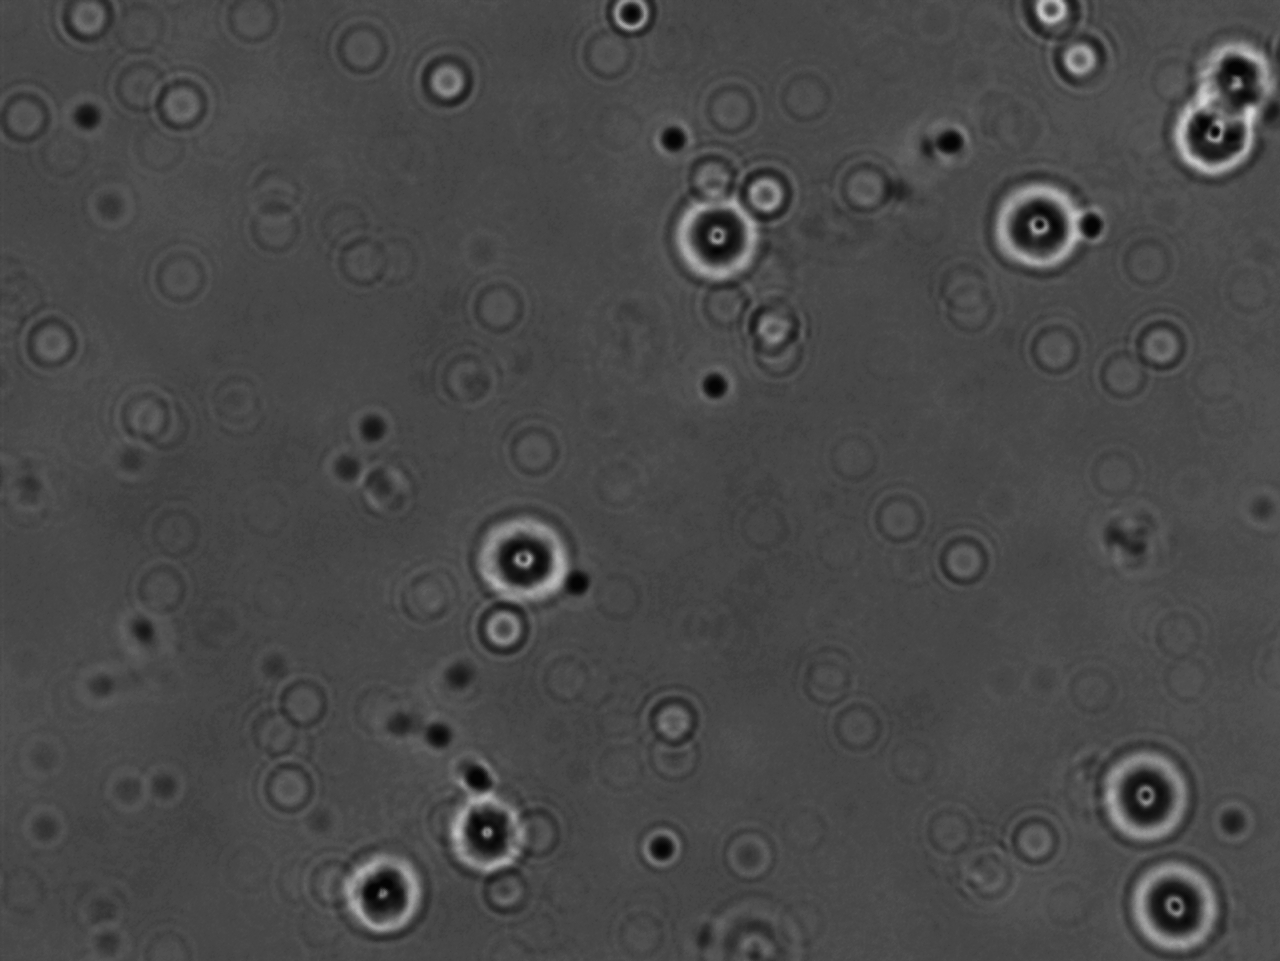depth:-8: (980, 162, 1105, 282), (1086, 732, 1213, 848), (463, 502, 586, 620), (1113, 852, 1243, 960), (322, 838, 437, 947), (442, 786, 557, 891), (662, 185, 771, 288), (1156, 87, 1263, 190), (1192, 18, 1280, 121)
